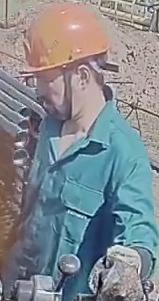gloves: (87, 244, 148, 300)
helmet: (19, 1, 114, 73)
vest: (1, 99, 157, 300)
